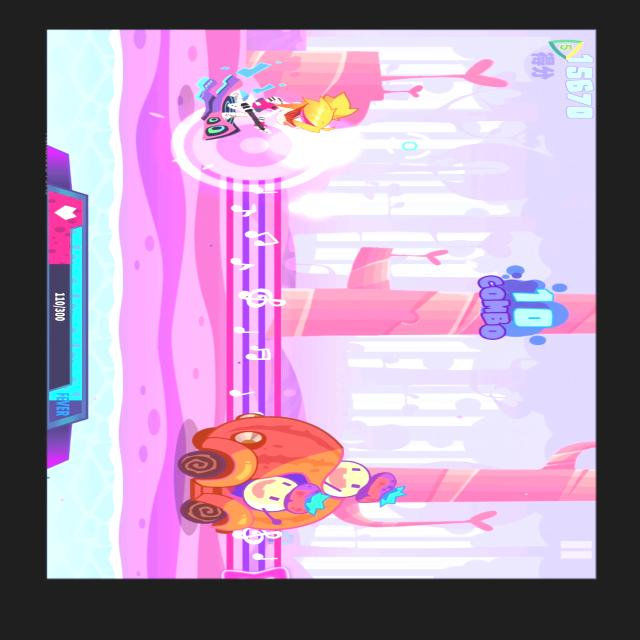cheboss: (170, 411, 408, 533)
hold: (208, 130, 316, 580)
